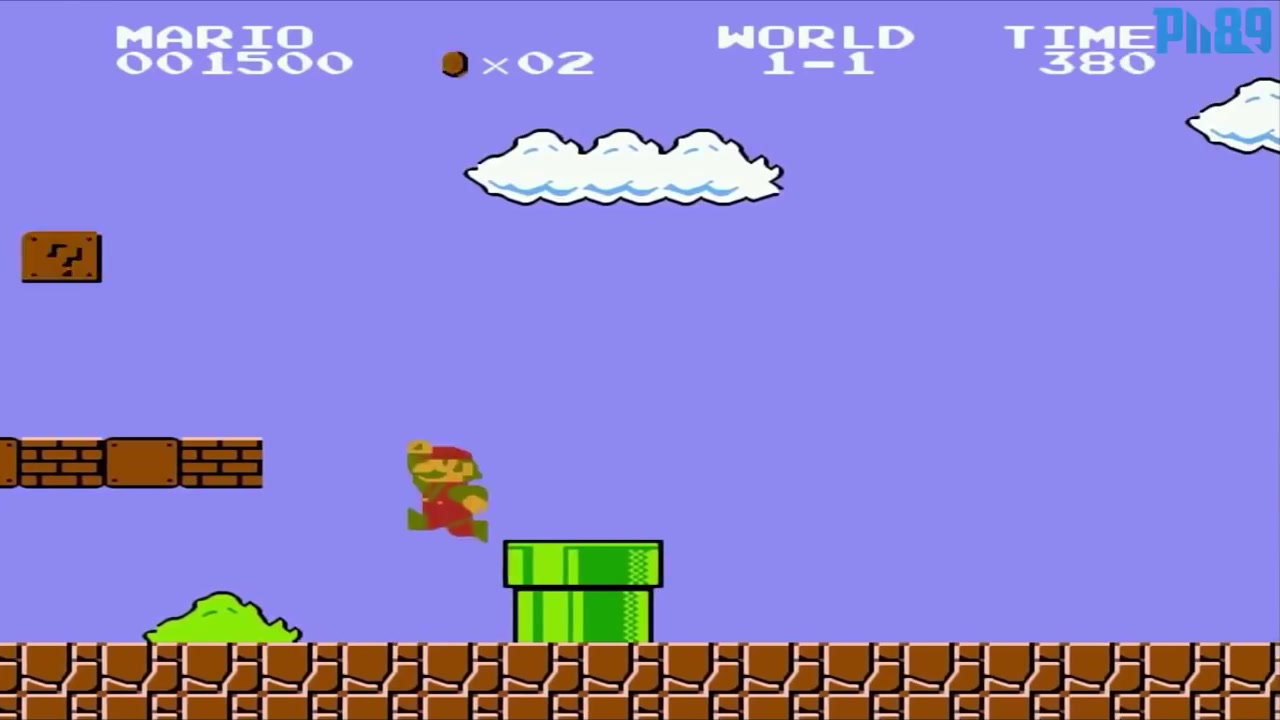mario: (400, 436, 496, 548)
